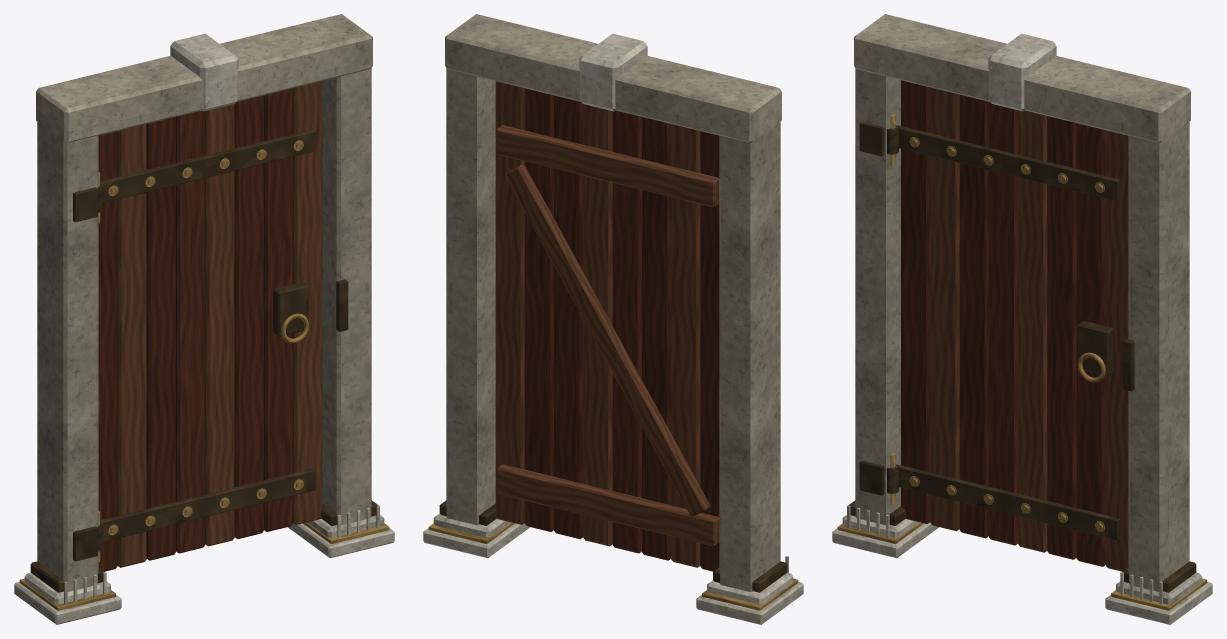
3 views of the same model, side by side, from view 1: azimuth 30°, elevation 25°; view 2: azimuth 150°, elevation 25°; view 3: azimuth 330°, elevation 25° (orthographic).
Parts seen in each view (by area): view 1: honed-limestone, quarter-sawn-timber, exposed-end-grain, dark-patinated-bronze-fittings (×2), carved-limestone-mouldings, aged-bronze (×2), polished-bronze-bearing; view 2: honed-limestone, exposed-end-grain, quarter-sawn-timber, carved-limestone-mouldings, aged-bronze, dark-patinated-bronze-fittings; view 3: honed-limestone, quarter-sawn-timber, exposed-end-grain, dark-patinated-bronze-fittings (×2), carved-limestone-mouldings, aged-bronze (×2), polished-bronze-bearing.
Boxes of the visible parts, x1,y1,x2,y2 form: honed-limestone: (36, 14, 372, 591); quarter-sawn-timber: (98, 88, 293, 571); exposed-end-grain: (117, 81, 322, 567); dark-patinated-bronze-fittings (×2): (30, 129, 377, 592); carved-limestone-mouldings: (14, 33, 394, 624); aged-bronze (×2): (19, 142, 389, 610); polished-bronze-bearing: (108, 140, 303, 535); honed-limestone: (445, 14, 781, 591); exposed-end-grain: (495, 81, 719, 567); quarter-sawn-timber: (524, 88, 719, 571); carved-limestone-mouldings: (423, 33, 803, 624); aged-bronze: (428, 522, 798, 610); dark-patinated-bronze-fittings: (439, 500, 787, 592); honed-limestone: (854, 14, 1190, 591); quarter-sawn-timber: (901, 80, 1105, 566); exposed-end-grain: (930, 87, 1128, 571); dark-patinated-bronze-fittings (×2): (849, 121, 1196, 592); carved-limestone-mouldings: (832, 33, 1212, 624); aged-bronze (×2): (837, 138, 1207, 610); polished-bronze-bearing: (909, 137, 1104, 531).
Size of the model in its own units: 1.74 by 2.55 by 0.38.
7 materials, 7 textured.
